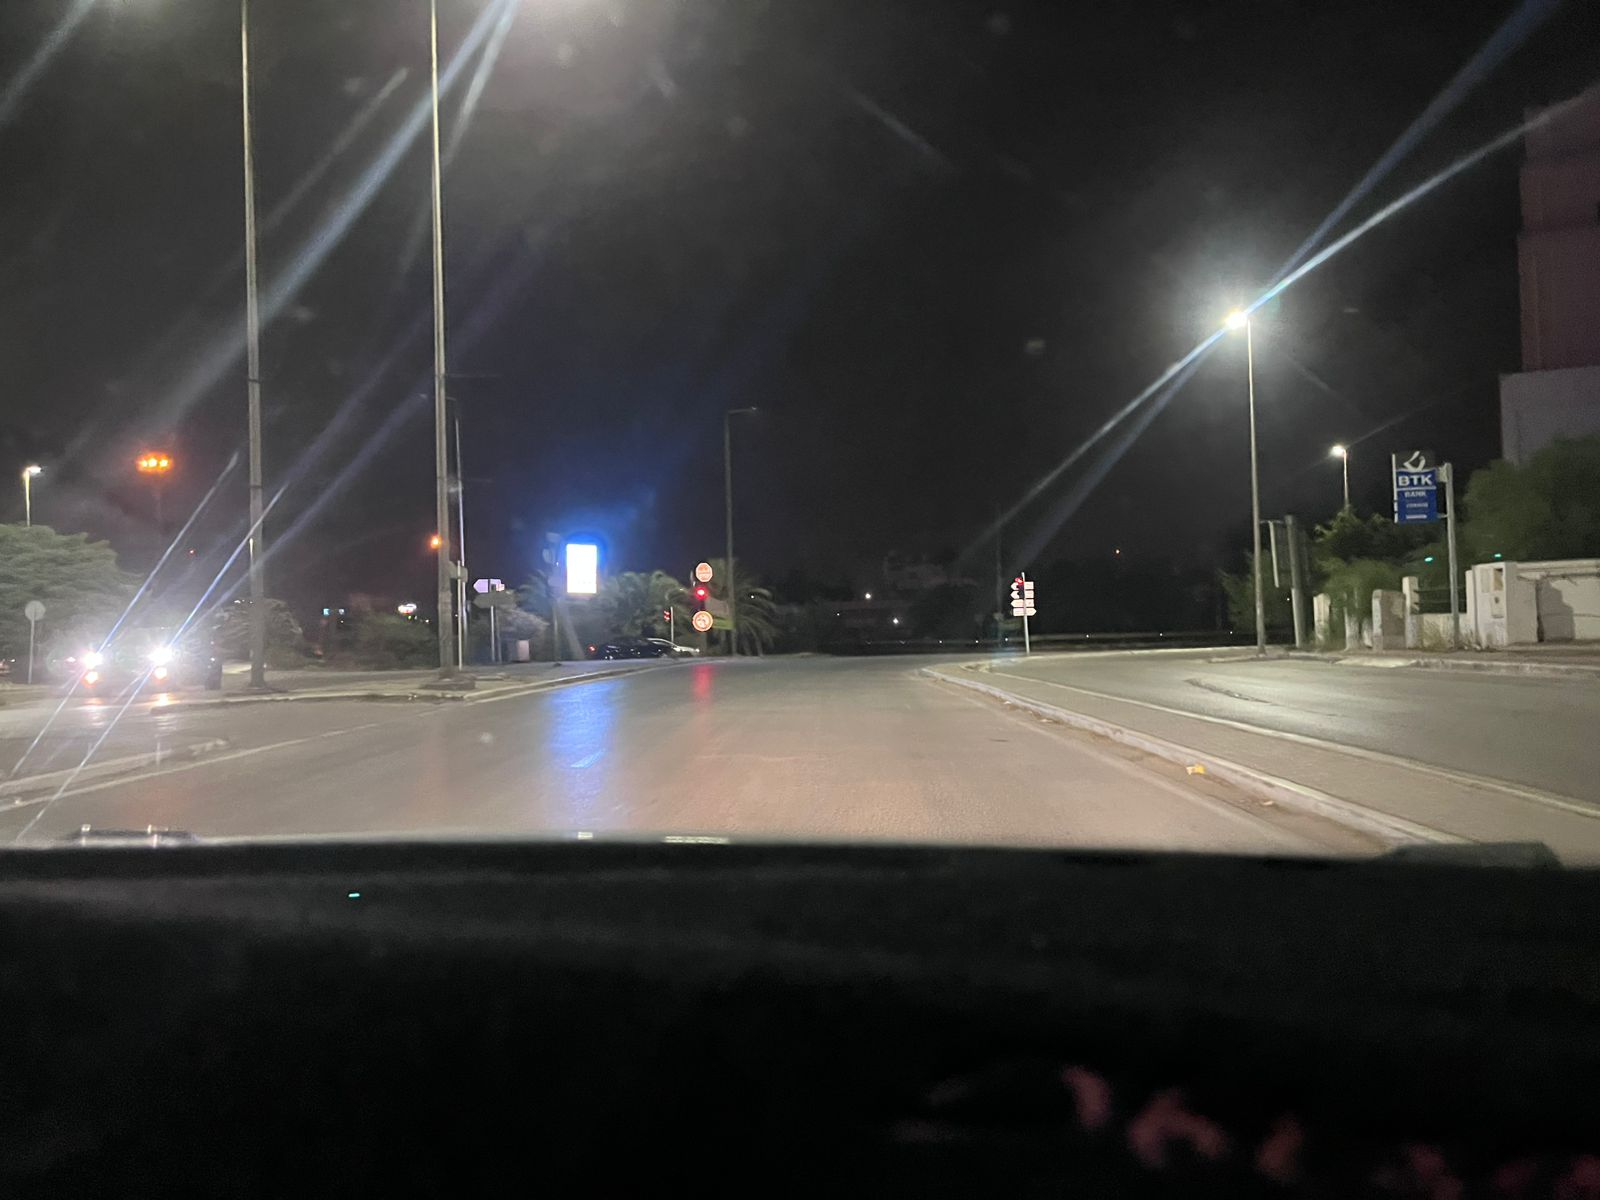RedLight: (695, 585, 708, 611)
Stop: (694, 562, 713, 584)
